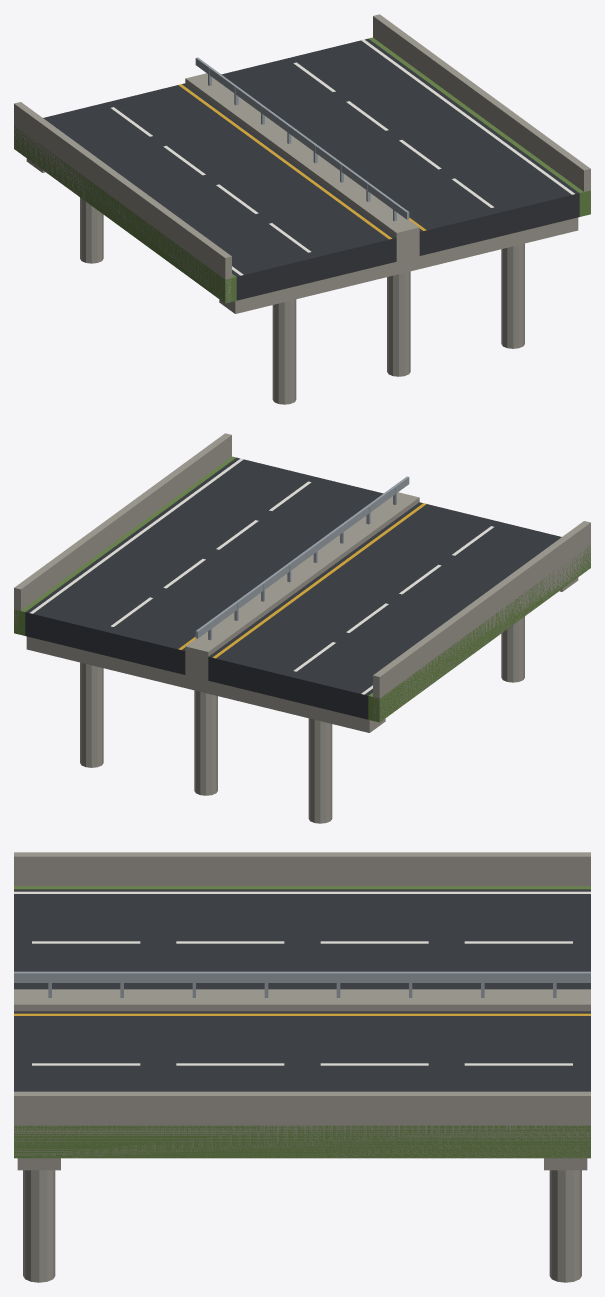
The model's file is Bridge_Overpass_Highway_16m.glb.
3 renders of one model, top to bottom at view 1: azimuth 30°, elevation 25°; view 2: azimuth 150°, elevation 25°; view 3: azimuth 270°, elevation 25°, orthographic. The views are drawn at different scales.
Visible parts, largest first — view 1: Bridge_Overpass_Highway_16m_Asphalt, Bridge_Overpass_Highway_16m_Concrete, Bridge_Overpass_Highway_16m_Grass-edge, Bridge_Overpass_Highway_16m_Metal, Bridge_Overpass_Highway_16m_PaintWhite, Bridge_Overpass_Highway_16m_PaintYellow; view 2: Bridge_Overpass_Highway_16m_Asphalt, Bridge_Overpass_Highway_16m_Concrete, Bridge_Overpass_Highway_16m_Grass-edge, Bridge_Overpass_Highway_16m_Metal, Bridge_Overpass_Highway_16m_PaintWhite, Bridge_Overpass_Highway_16m_PaintYellow; view 3: Bridge_Overpass_Highway_16m_Asphalt, Bridge_Overpass_Highway_16m_Concrete, Bridge_Overpass_Highway_16m_Grass-edge, Bridge_Overpass_Highway_16m_Metal, Bridge_Overpass_Highway_16m_PaintWhite, Bridge_Overpass_Highway_16m_PaintYellow.
Boxes of the visible parts, box(x1,y1,x2,y2) form: Bridge_Overpass_Highway_16m_Asphalt: box(43, 38, 579, 300); Bridge_Overpass_Highway_16m_Concrete: box(14, 14, 590, 404); Bridge_Overpass_Highway_16m_Grass-edge: box(14, 37, 590, 303); Bridge_Overpass_Highway_16m_Metal: box(195, 57, 409, 221); Bridge_Overpass_Highway_16m_PaintWhite: box(111, 39, 574, 275); Bridge_Overpass_Highway_16m_PaintYellow: box(178, 84, 426, 239); Bridge_Overpass_Highway_16m_Asphalt: box(25, 457, 561, 719); Bridge_Overpass_Highway_16m_Concrete: box(14, 433, 590, 823); Bridge_Overpass_Highway_16m_Grass-edge: box(14, 456, 590, 722); Bridge_Overpass_Highway_16m_Metal: box(195, 476, 409, 640); Bridge_Overpass_Highway_16m_PaintWhite: box(30, 458, 493, 694); Bridge_Overpass_Highway_16m_PaintYellow: box(178, 503, 426, 658); Bridge_Overpass_Highway_16m_Asphalt: box(14, 889, 590, 1091); Bridge_Overpass_Highway_16m_Concrete: box(14, 852, 590, 1282); Bridge_Overpass_Highway_16m_Grass-edge: box(14, 886, 590, 1158); Bridge_Overpass_Highway_16m_Metal: box(14, 971, 590, 997); Bridge_Overpass_Highway_16m_PaintWhite: box(14, 891, 590, 1065); Bridge_Overpass_Highway_16m_PaintYellow: box(14, 1013, 590, 1015).
Size of the model in its own units: 16 by 6.95 by 16.
